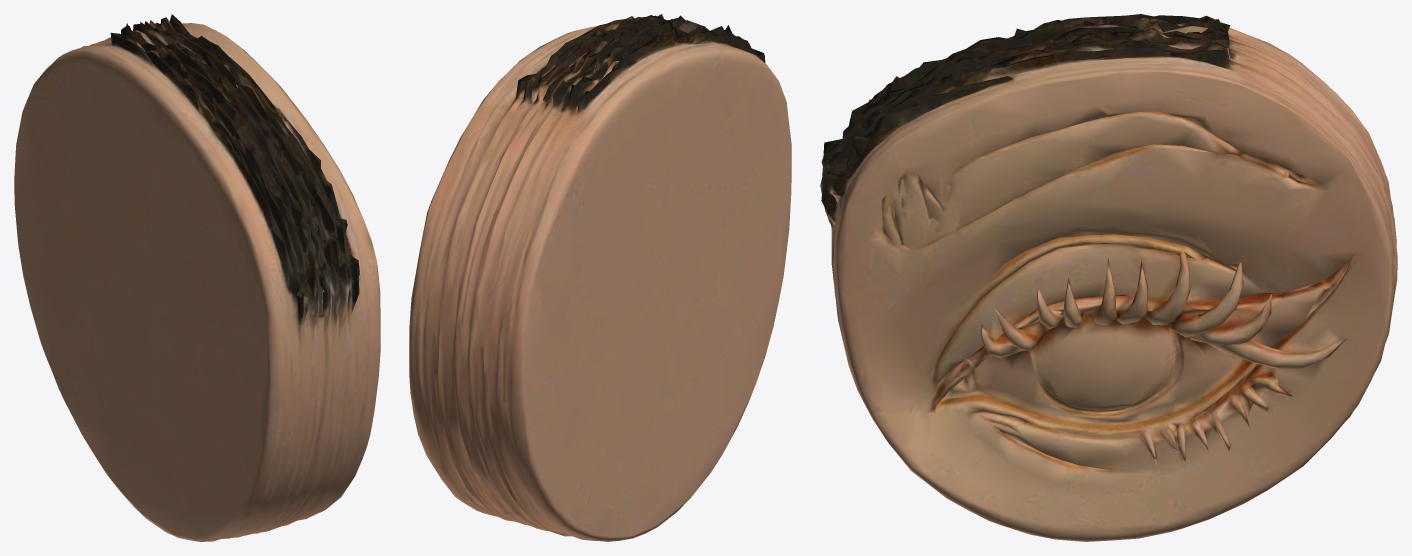
Rendered from pmu.glb.
3 views of the same model, side by side, from view 1: azimuth 30°, elevation 25°; view 2: azimuth 150°, elevation 25°; view 3: azimuth 270°, elevation 25° (orthographic). The views are drawn at different scales.
Parts seen in each view (by area): view 1: tripo_node_80ace77f-a418-4dd1-a436-71651c31d61f; view 2: tripo_node_80ace77f-a418-4dd1-a436-71651c31d61f; view 3: tripo_node_80ace77f-a418-4dd1-a436-71651c31d61f.
Boxes of the visible parts, x1,y1,x2,y2 form: tripo_node_80ace77f-a418-4dd1-a436-71651c31d61f: (14, 14, 380, 541); tripo_node_80ace77f-a418-4dd1-a436-71651c31d61f: (409, 14, 791, 541); tripo_node_80ace77f-a418-4dd1-a436-71651c31d61f: (820, 14, 1397, 541).
Size of the model in its own units: 0.2585 by 0.9435 by 0.9996.
Materials: 1 (1 with a texture image).
